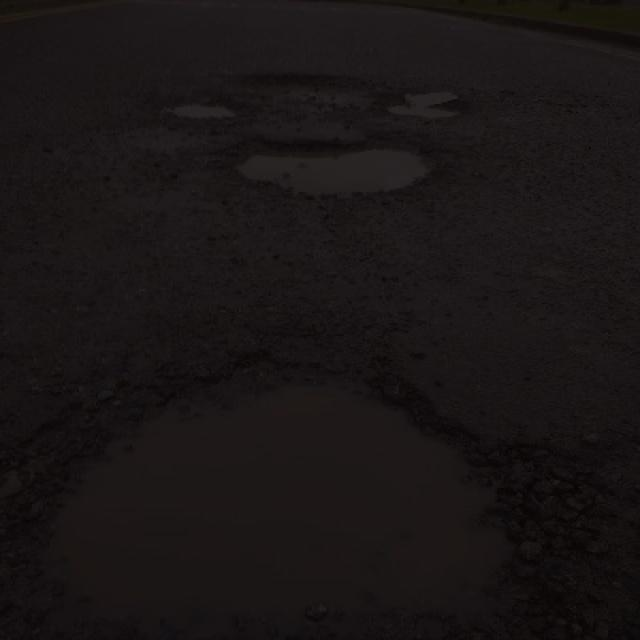Pothole: (7, 333, 607, 640), (227, 133, 439, 201), (234, 68, 379, 118), (388, 84, 469, 121), (171, 92, 245, 130)
